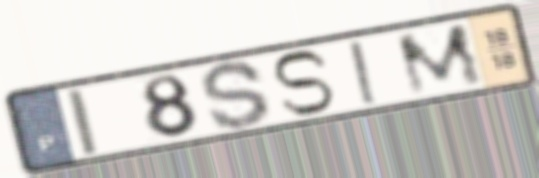8: (138, 72, 201, 141)
I: (62, 85, 102, 158), (345, 38, 383, 108)
M: (392, 20, 489, 100)
S: (198, 59, 275, 133), (268, 47, 338, 118)
